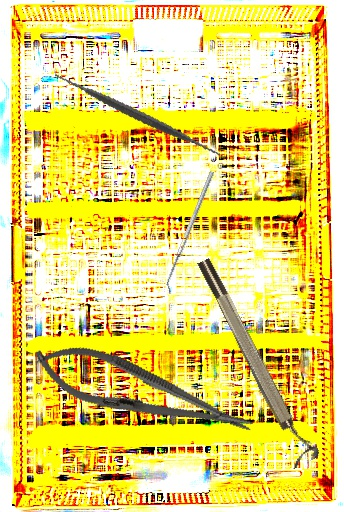Fixation Ring: (193, 251, 322, 470)
Needle Holder: (25, 330, 261, 455)
Spatula Surgical: (52, 30, 223, 199), (162, 170, 219, 293)
